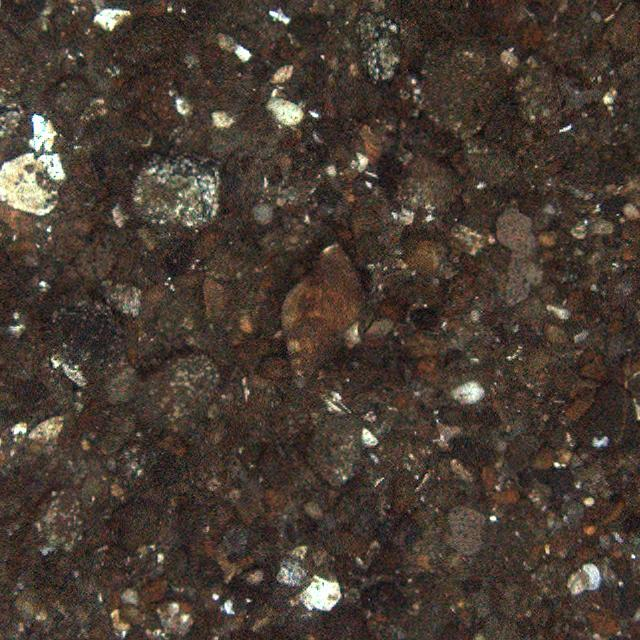whelk: (280, 244, 366, 381)
